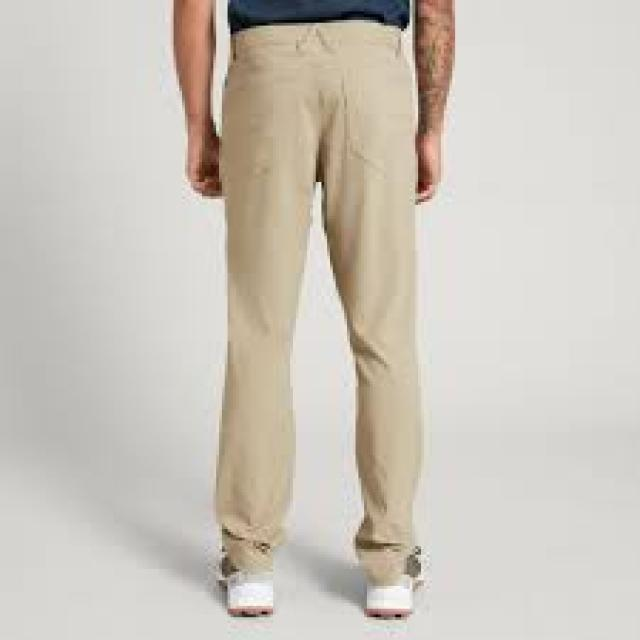long-pants: (212, 18, 424, 589)
